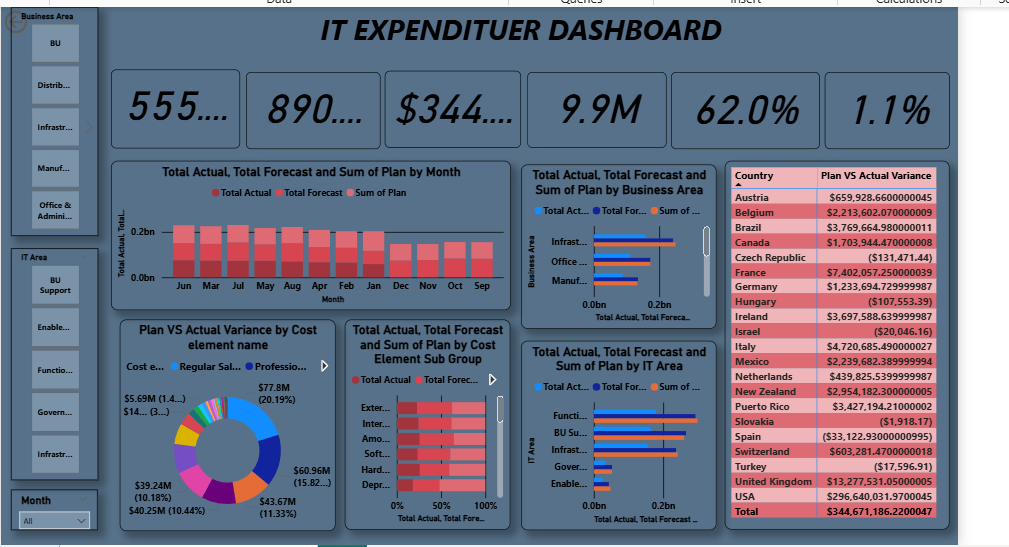

This screenshot's page, from the dashboard's own definition file:
{"tool":"powerbi","page":{"name":"IT EXPENDITUER DASHBOARD","canvas":[1280,720],"ordinal":0},"visuals":[{"type":"card","fields":{"Values":["Measuers.Total Actual"]},"box":[147.7,83,172.9,105.7],"z":1000},{"type":"card","fields":{"Values":["Measuers.Total Forecast"]},"box":[327.5,86.3,179.8,102.9],"z":2000},{"type":"card","fields":{"Values":["Measuers.Plan VS Forecast Variance"]},"box":[703.5,86.8,186.6,101.5],"z":3000},{"type":"card","fields":{"Values":["Measuers.Plan VS Actual Variance"]},"box":[514.1,86,182.5,102.9],"z":4000},{"type":"card","fields":{"Values":["Measuers.Plan VS Actual Variance %"]},"box":[897,86.5,199,102.9],"z":5000},{"type":"card","fields":{"Values":["Measuers.Plan Vs Forecast  Variance %"]},"box":[1102.5,87.1,167.4,102.9],"z":6000},{"type":"actionButton","box":[0,0,100,40],"z":7000},{"type":"pivotTable","fields":{"Rows":["Data.Country"],"Values":["Measuers.Plan VS Actual Variance"]},"box":[968.6,205.8,301.1,493.5],"z":8000},{"type":"columnChart","fields":{"Category":["Data.Month"],"Y":["Measuers.Total Actual","Measuers.Total Forecast","Sum(Data.Plan)"]},"box":[147.1,205.9,535,200],"z":9000},{"type":"donutChart","fields":{"Category":["Data.Cost element name"],"Y":["Measuers.Plan VS Actual Variance"]},"box":[159.7,417.4,288.6,283],"z":10000},{"type":"hundredPercentStackedBarChart","fields":{"Category":["Data.Cost Element Sub Group"],"Y":["Measuers.Total Actual","Measuers.Total Forecast","Sum(Data.Plan)"]},"box":[460.8,418.8,221.3,281.6],"z":11000},{"type":"clusteredBarChart","fields":{"Category":["Data.Business Area"],"Y":["Measuers.Total Actual","Measuers.Total Forecast","Sum(Data.Plan)"]},"box":[696.2,211.5,261.9,219.9],"z":12000},{"type":"clusteredBarChart","fields":{"Y":["Measuers.Total Actual","Measuers.Total Forecast","Sum(Data.Plan)"],"Category":["Data.IT Area"]},"box":[696.2,446.8,261.9,253.5],"z":13000},{"type":"slicer","fields":{"Values":["Data.Business Area"]},"box":[13.7,0,116.6,306],"z":14000},{"type":"slicer","fields":{"Values":["Data.IT Area"]},"box":[13.7,322.5,116.6,310.1],"z":15000},{"type":"slicer","fields":{"Values":["Data.Month"]},"box":[14,645.7,116.3,54.6],"z":16000},{"type":"textbox","box":[219.9,0,953.9,82.6],"z":17000}]}

Visuals, with their boxes on the page's 1280x720 design canvas (x1, y1, x2, y2). These are canvas units, not pixel positions in the 1009x547 screenshot, which may show the page scaled, cropped or inside an application window:
card - Measuers.Total Actual: x1=148, y1=83, x2=321, y2=189
card - Measuers.Total Forecast: x1=328, y1=86, x2=507, y2=189
card - Measuers.Plan VS Forecast Variance: x1=704, y1=87, x2=890, y2=188
card - Measuers.Plan VS Actual Variance: x1=514, y1=86, x2=697, y2=189
card - Measuers.Plan VS Actual Variance %: x1=897, y1=86, x2=1096, y2=189
card - Measuers.Plan Vs Forecast  Variance %: x1=1102, y1=87, x2=1270, y2=190
actionButton: x1=0, y1=0, x2=100, y2=40
pivotTable - Data.Country x Measuers.Plan VS Actual Variance: x1=969, y1=206, x2=1270, y2=699
columnChart - Data.Month x Measuers.Total Actual: x1=147, y1=206, x2=682, y2=406
donutChart - Data.Cost element name x Measuers.Plan VS Actual Variance: x1=160, y1=417, x2=448, y2=700
hundredPercentStackedBarChart - Data.Cost Element Sub Group x Measuers.Total Actual: x1=461, y1=419, x2=682, y2=700
clusteredBarChart - Data.Business Area x Measuers.Total Actual: x1=696, y1=212, x2=958, y2=431
clusteredBarChart - Measuers.Total Actual x Measuers.Total Forecast: x1=696, y1=447, x2=958, y2=700
slicer - Data.Business Area: x1=14, y1=0, x2=130, y2=306
slicer - Data.IT Area: x1=14, y1=322, x2=130, y2=633
slicer - Data.Month: x1=14, y1=646, x2=130, y2=700
textbox: x1=220, y1=0, x2=1174, y2=83
